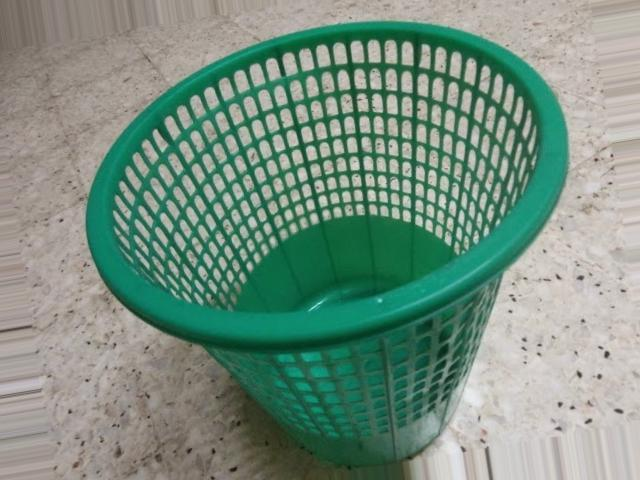Bote de Basura: (71, 12, 574, 479)
